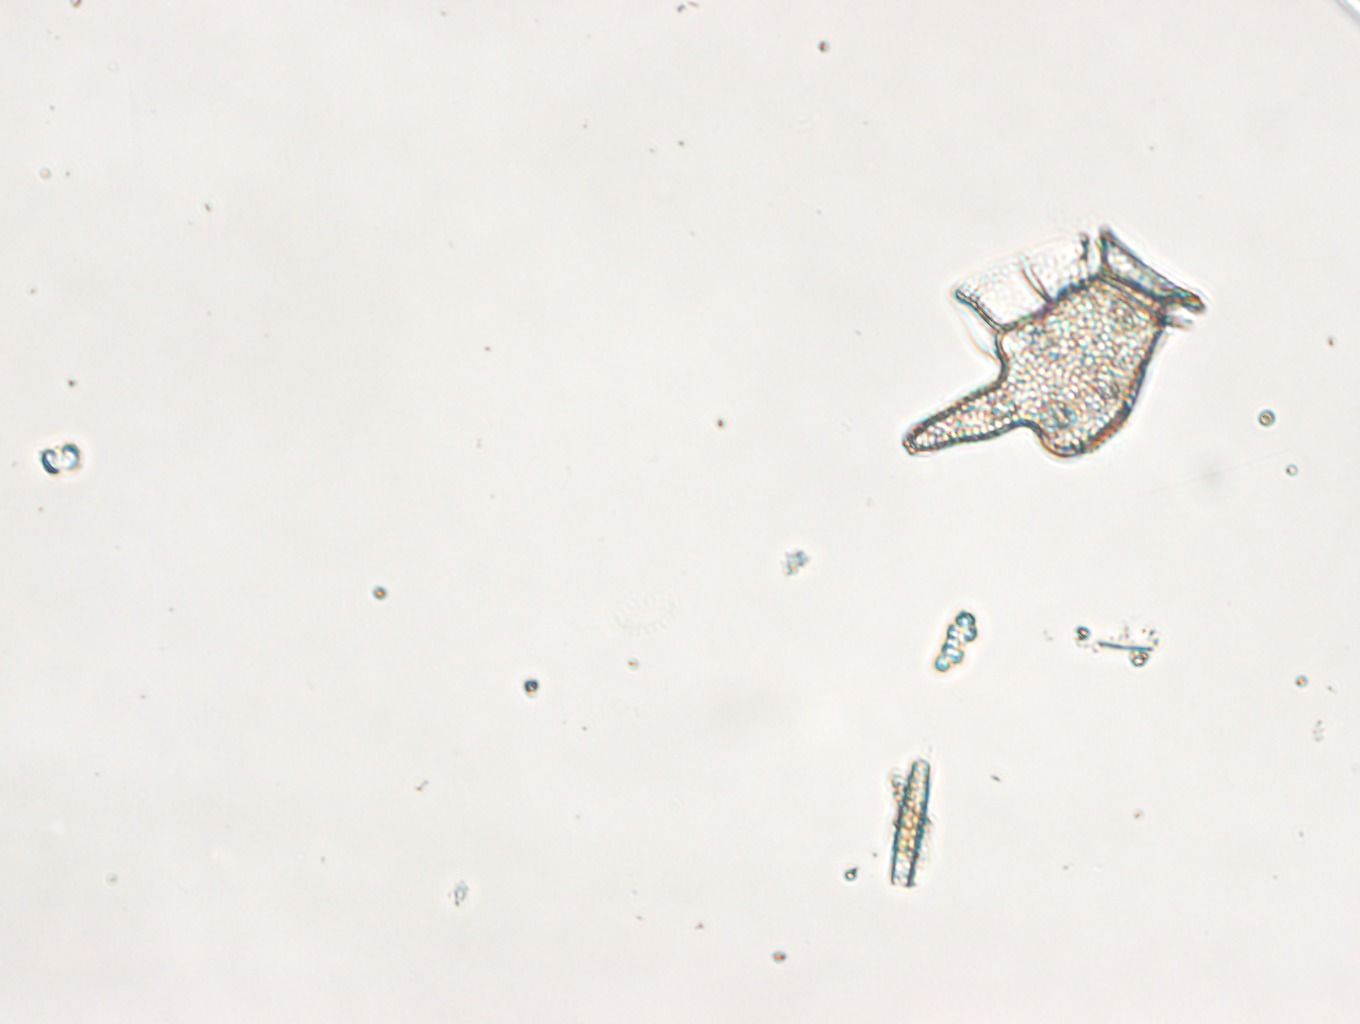dinophysis caudata: (898, 224, 1209, 459)
